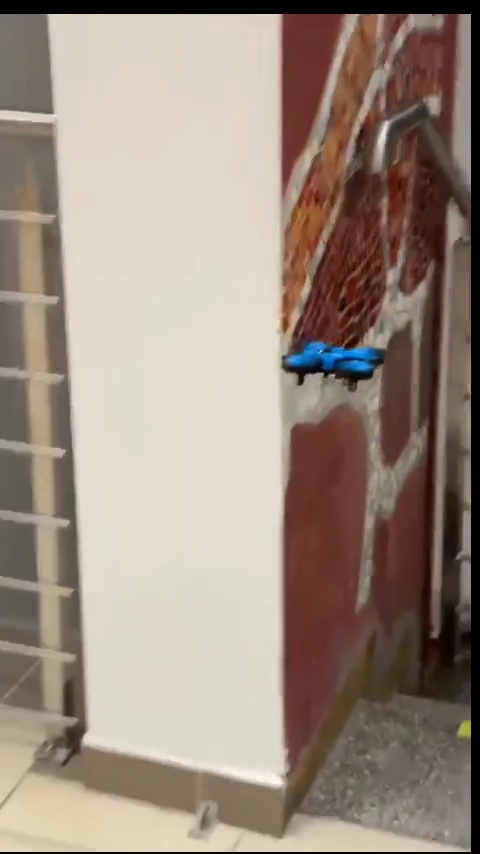drone: (280, 339, 381, 391)
